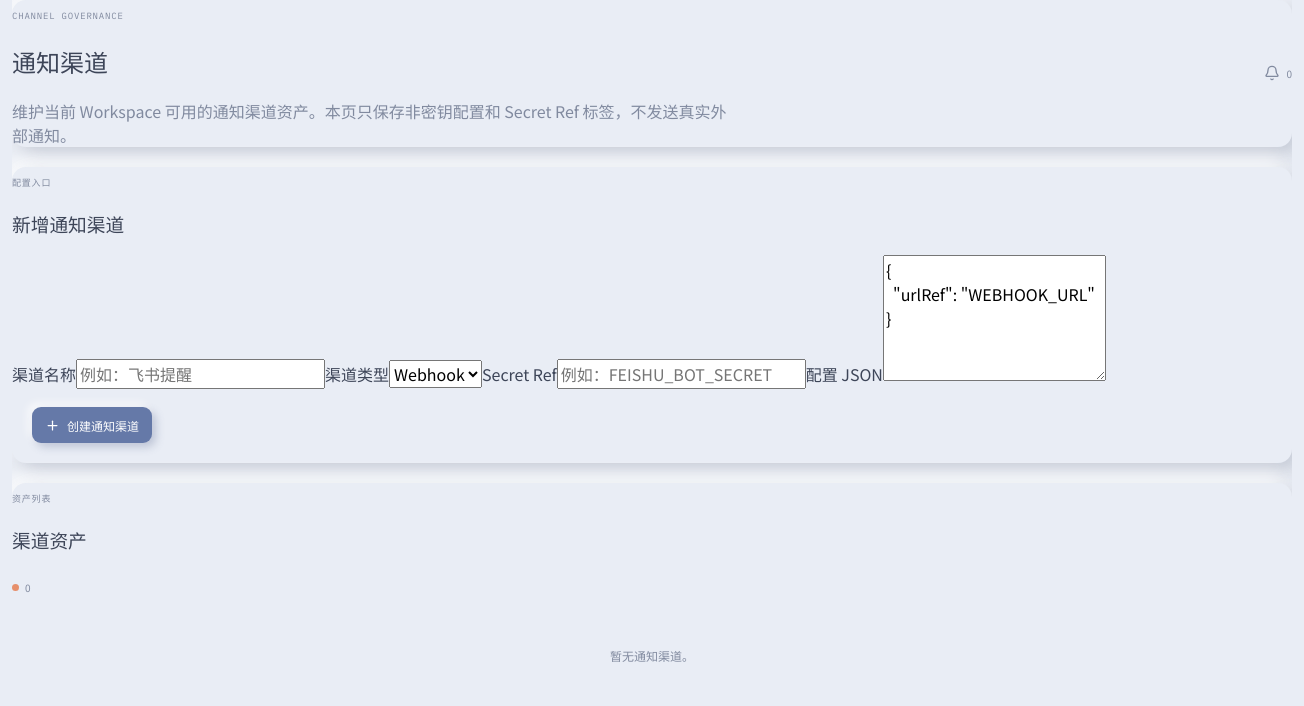
Test case: NotificationChannels page › blocks non-object config before submitting
Check: the heading "通知渠道" is shown, box [12, 44, 108, 79]
In the field labelled "渠道名称": {"x": 200, "y": 374} [76, 359, 325, 389], type "错误配置"
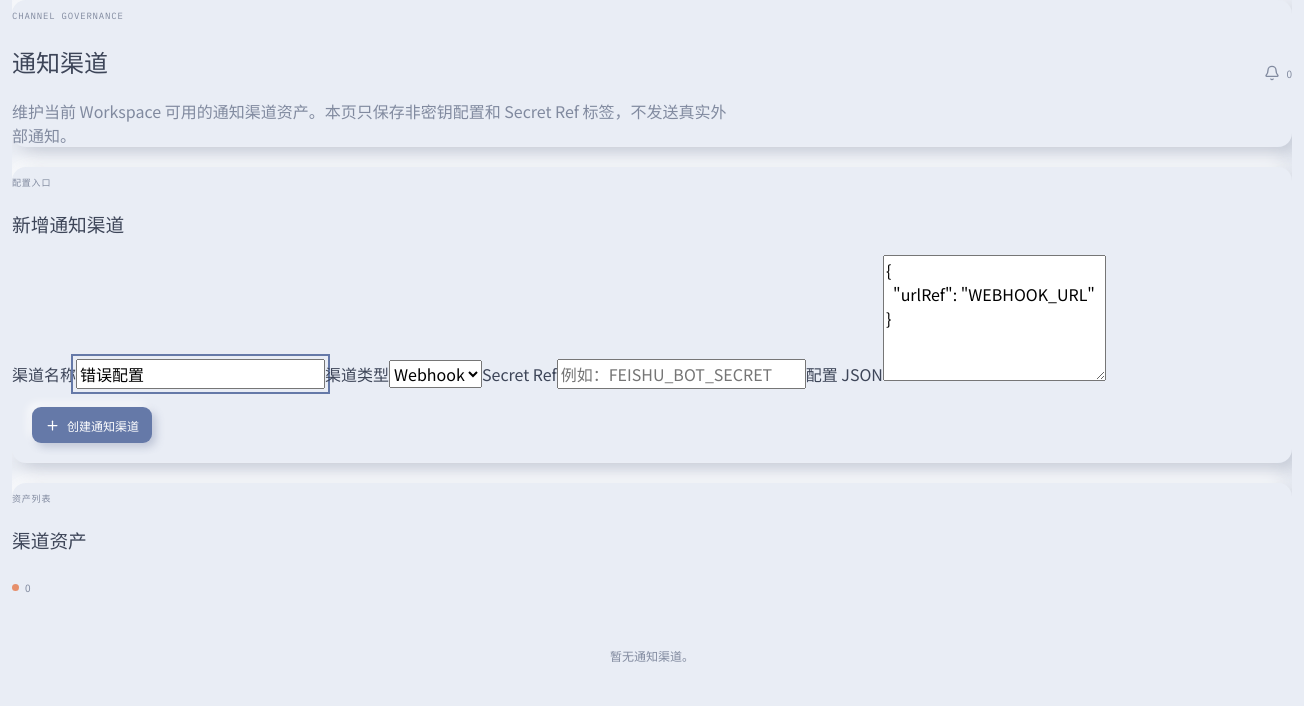
Replace the text in the text box labelled "配置 JSON" with "[\"bad\"]": {"x": 994, "y": 318} [883, 255, 1106, 381]
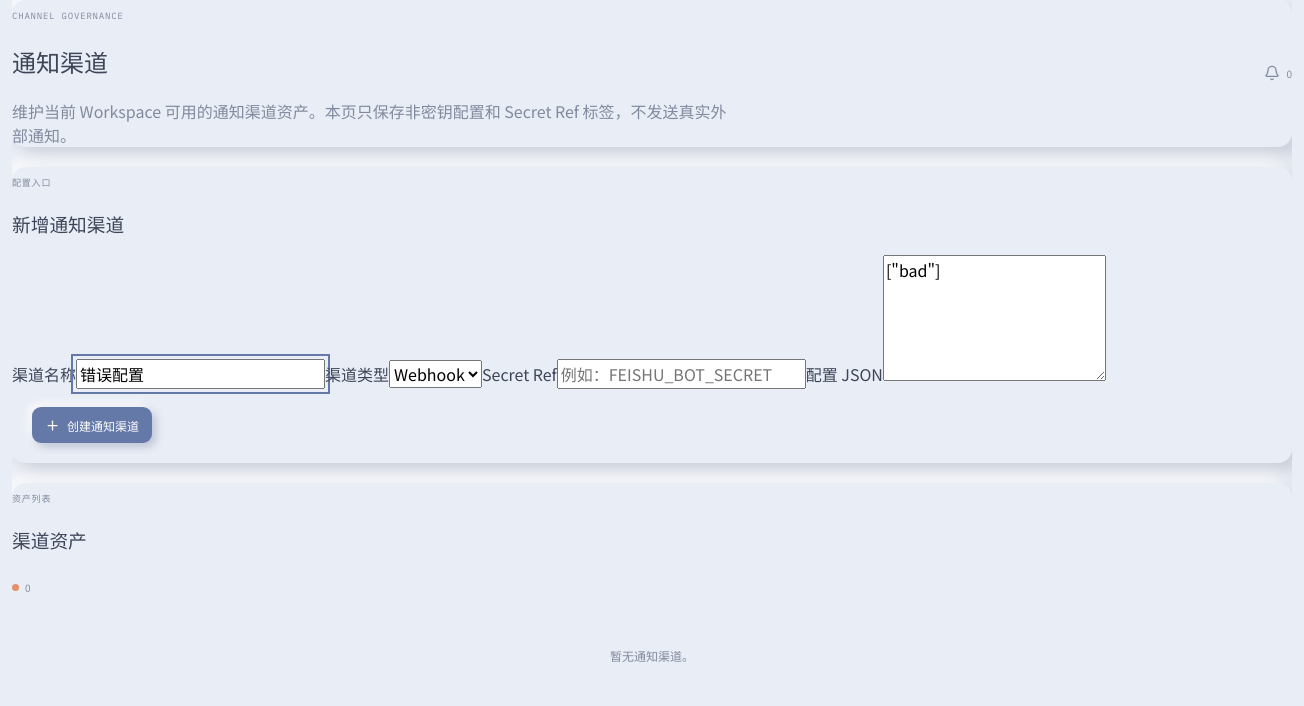
Click the button "创建通知渠道": {"x": 92, "y": 425} [32, 407, 152, 443]
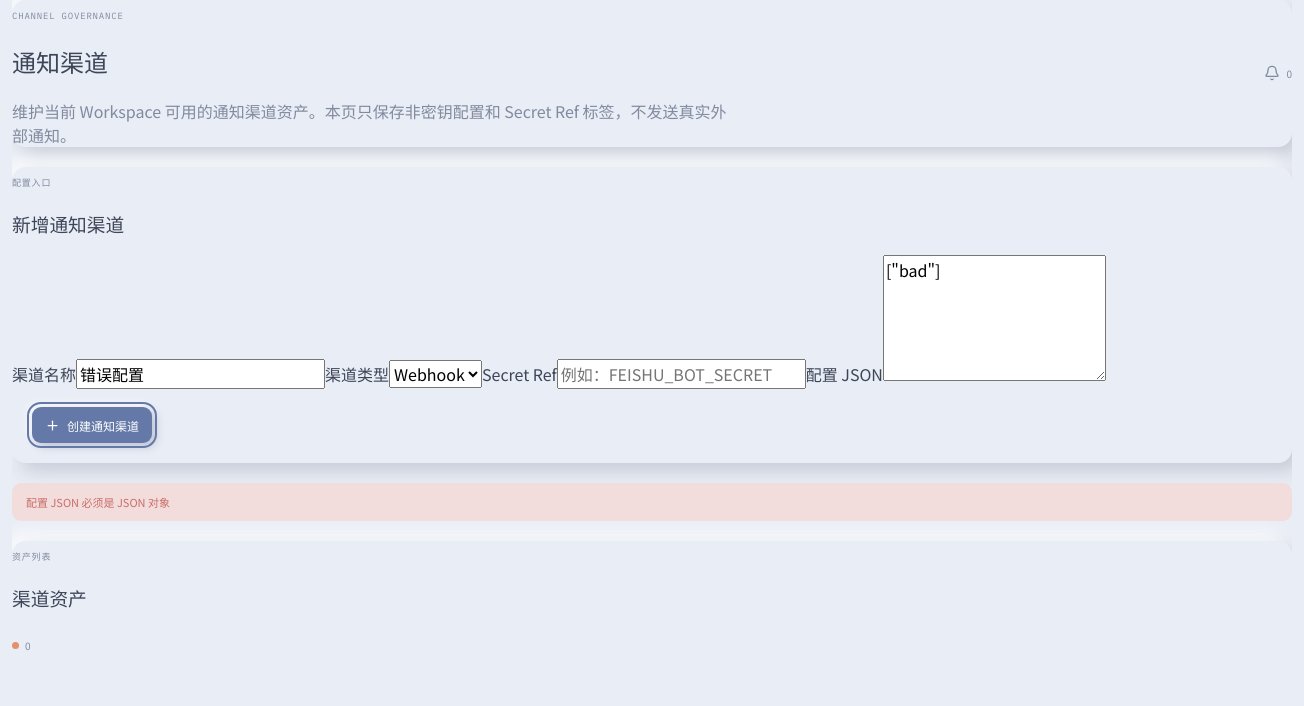
Check: the text "配置 JSON 必须是 JSON 对象" is shown, box [12, 483, 1292, 521]
